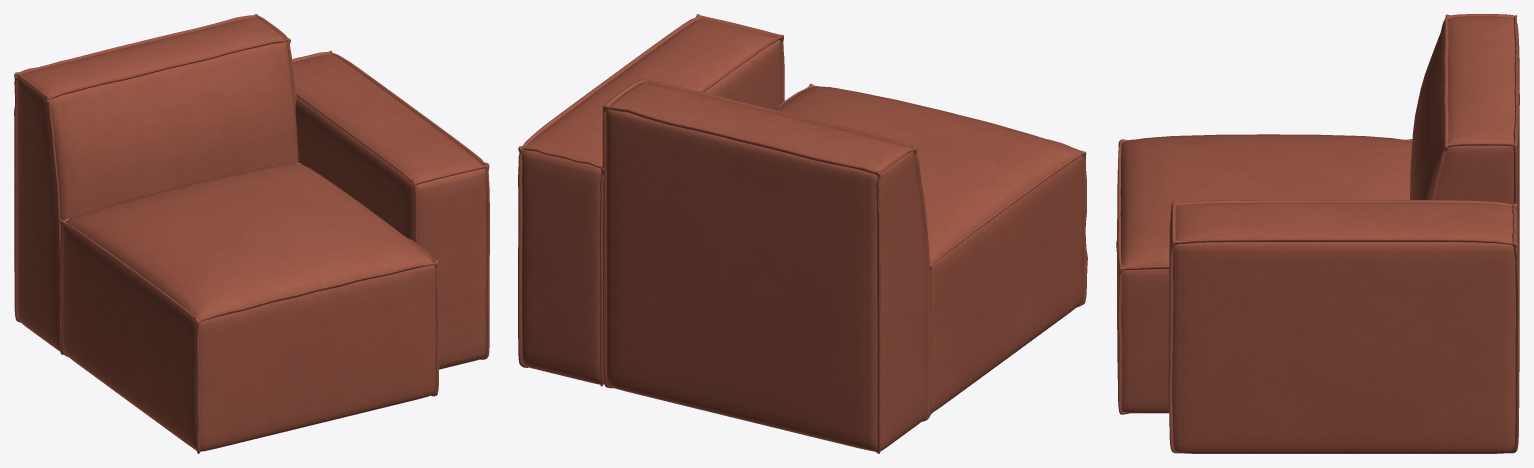
The model's file is rightArmSofaBrick.glb.
The picture shows the model from 3 angles, left to right: view 1: azimuth 30°, elevation 25°; view 2: azimuth 150°, elevation 25°; view 3: azimuth 270°, elevation 25°; orthographic projection. The views are drawn at different scales.
Parts seen in each view (by area): view 1: group1_MODEL03_CONF_01:_Object043.001_group1_MODEL03_CONF_0, MODEL03_CONF_01:_Object046_group1.001_MODEL03_CONF_01:_Obje, group1_MODEL03_CONF_01:_Object047.001_group1_MODEL03_CONF_0, group1_MODEL03_CONF_01:_Group002.001_group1_MODEL03_CONF_01, group1_MODEL03_CONF_01:_Group003.001_group1_MODEL03_CONF_01, group1_MODEL03_CONF_01:_Group004.001_group1_MODEL03_CONF_01; view 2: MODEL03_CONF_01:_Object046_group1.001_MODEL03_CONF_01:_Obje, group1_MODEL03_CONF_01:_Object043.001_group1_MODEL03_CONF_0, group1_MODEL03_CONF_01:_Object047.001_group1_MODEL03_CONF_0, group1_MODEL03_CONF_01:_Group002.001_group1_MODEL03_CONF_01, group1_MODEL03_CONF_01:_Group004.001_group1_MODEL03_CONF_01, group1_MODEL03_CONF_01:_Group003.001_group1_MODEL03_CONF_01; view 3: group1_MODEL03_CONF_01:_Object047.001_group1_MODEL03_CONF_0, group1_MODEL03_CONF_01:_Object043.001_group1_MODEL03_CONF_0, MODEL03_CONF_01:_Object046_group1.001_MODEL03_CONF_01:_Obje, group1_MODEL03_CONF_01:_Group004.001_group1_MODEL03_CONF_01, group1_MODEL03_CONF_01:_Group002.001_group1_MODEL03_CONF_01, group1_MODEL03_CONF_01:_Group003.001_group1_MODEL03_CONF_01.
Boxes of the visible parts, left/top/right/bottom form: group1_MODEL03_CONF_01:_Object043.001_group1_MODEL03_CONF_0: left=62, top=163, right=435, bottom=451; MODEL03_CONF_01:_Object046_group1.001_MODEL03_CONF_01:_Obje: left=17, top=17, right=298, bottom=351; group1_MODEL03_CONF_01:_Object047.001_group1_MODEL03_CONF_0: left=292, top=54, right=486, bottom=369; group1_MODEL03_CONF_01:_Group002.001_group1_MODEL03_CONF_01: left=14, top=14, right=296, bottom=354; group1_MODEL03_CONF_01:_Group003.001_group1_MODEL03_CONF_01: left=59, top=162, right=439, bottom=453; group1_MODEL03_CONF_01:_Group004.001_group1_MODEL03_CONF_01: left=292, top=50, right=489, bottom=359; MODEL03_CONF_01:_Object046_group1.001_MODEL03_CONF_01:_Obje: left=606, top=82, right=927, bottom=451; group1_MODEL03_CONF_01:_Object043.001_group1_MODEL03_CONF_0: left=775, top=86, right=1083, bottom=413; group1_MODEL03_CONF_01:_Object047.001_group1_MODEL03_CONF_0: left=522, top=19, right=781, bottom=384; group1_MODEL03_CONF_01:_Group002.001_group1_MODEL03_CONF_01: left=602, top=78, right=931, bottom=453; group1_MODEL03_CONF_01:_Group004.001_group1_MODEL03_CONF_01: left=518, top=14, right=784, bottom=386; group1_MODEL03_CONF_01:_Group003.001_group1_MODEL03_CONF_01: left=777, top=83, right=1087, bottom=414; group1_MODEL03_CONF_01:_Object047.001_group1_MODEL03_CONF_0: left=1168, top=202, right=1519, bottom=453; group1_MODEL03_CONF_01:_Object043.001_group1_MODEL03_CONF_0: left=1117, top=134, right=1412, bottom=413; MODEL03_CONF_01:_Object046_group1.001_MODEL03_CONF_01:_Obje: left=1410, top=16, right=1519, bottom=276; group1_MODEL03_CONF_01:_Group004.001_group1_MODEL03_CONF_01: left=1168, top=200, right=1519, bottom=453; group1_MODEL03_CONF_01:_Group002.001_group1_MODEL03_CONF_01: left=1431, top=14, right=1517, bottom=210; group1_MODEL03_CONF_01:_Group003.001_group1_MODEL03_CONF_01: left=1116, top=139, right=1412, bottom=414.
Size of the model in its own units: 0.9304 by 0.711 by 0.9317.
Materials: 1 (1 with a texture image).
